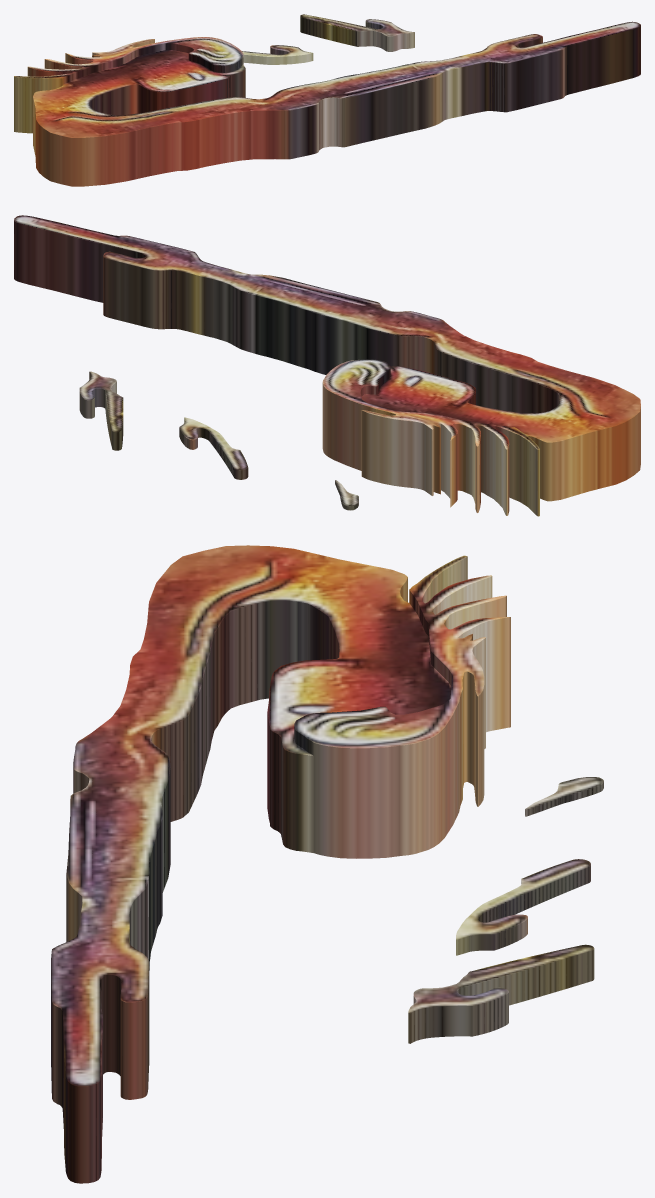
File: por lo nuestro a lo universal 6.dae
The picture shows the model from 3 angles, top to bottom: view 1: azimuth 30°, elevation 25°; view 2: azimuth 150°, elevation 25°; view 3: azimuth 270°, elevation 25°; orthographic projection. The views are drawn at different scales.
Visible parts, largest first — view 1: SketchUp (×3); view 2: SketchUp (×3); view 3: SketchUp (×4).
Part boxes in pixels (bbox=[...]): SketchUp (×3): bbox=[14, 14, 640, 186]; SketchUp (×3): bbox=[14, 215, 640, 516]; SketchUp (×4): bbox=[51, 545, 603, 1183].
Bounding box in the file's own units: 54.49 × 23.55 × 5.19.
1 material, 1 textured.
